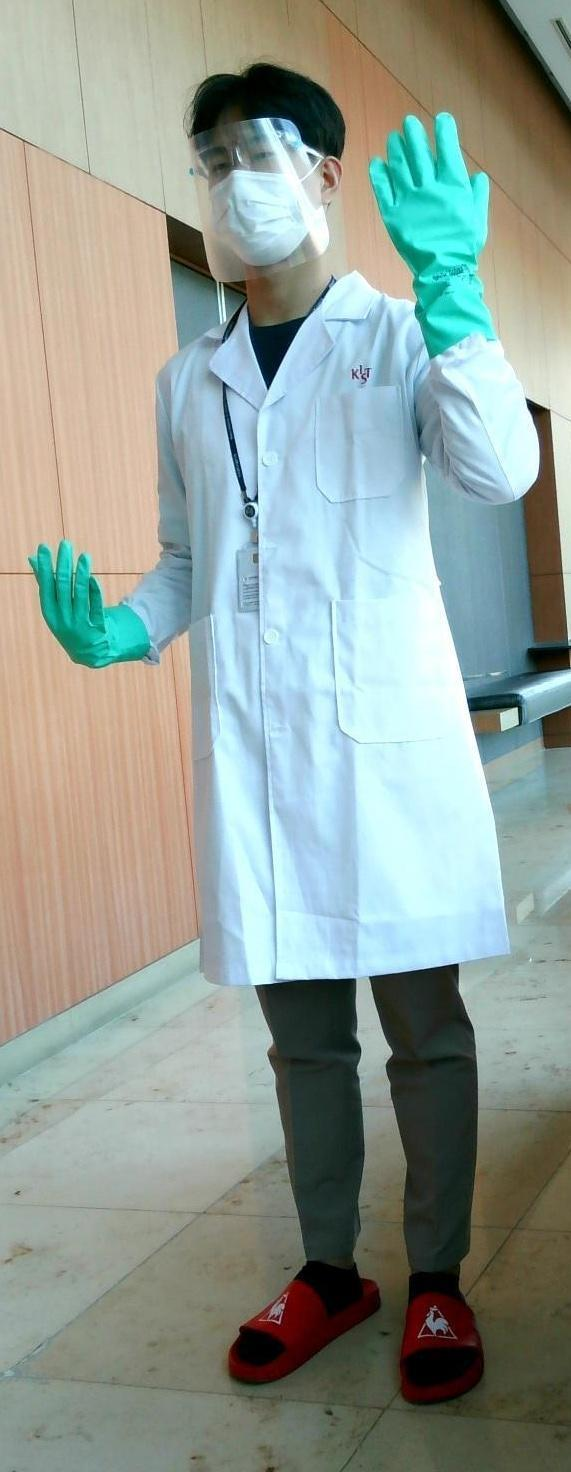lab_coat: (151, 347, 520, 966)
